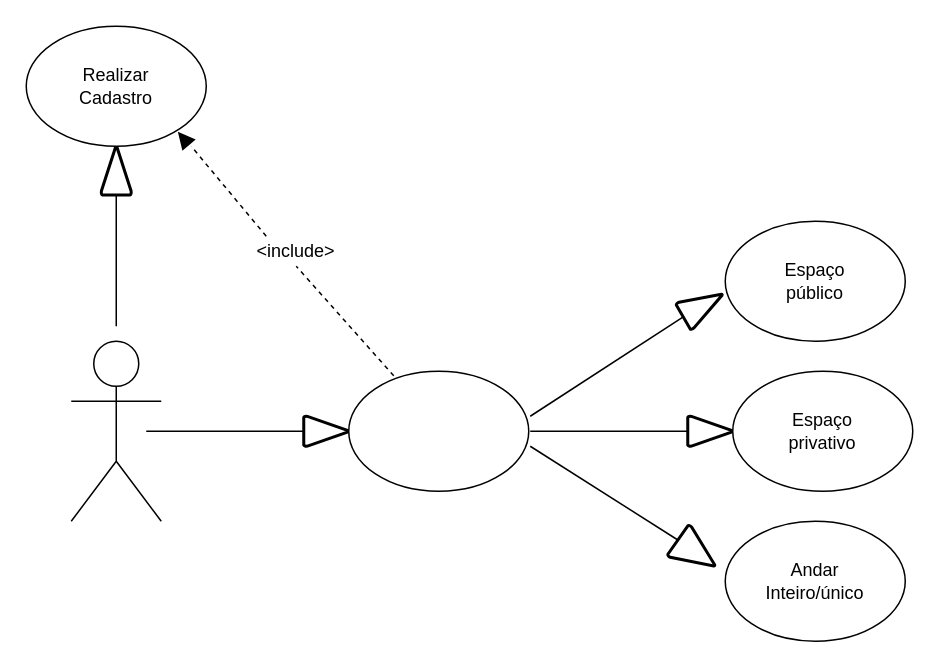
This 939x668 diagram has some shape labels left out. Here are the shapes that lost their labels. From the top down, the centre of each, then its label:
At point 115,430: "Cliente".
At point 438,430: "Acesso".
